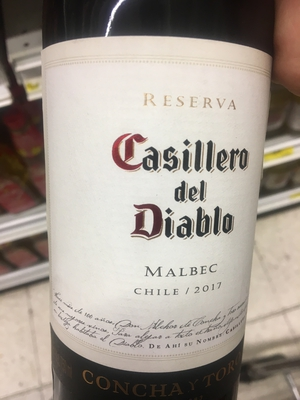casillero del diablo malbec: (41, 4, 282, 400)
